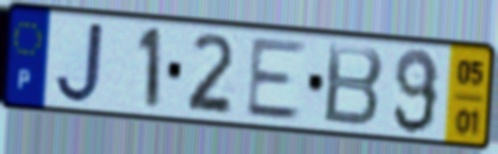1: (134, 25, 165, 112)
2: (184, 31, 236, 118)
9: (391, 45, 440, 138)
B: (321, 40, 386, 130)
E: (243, 37, 310, 123)
J: (52, 19, 108, 106)
